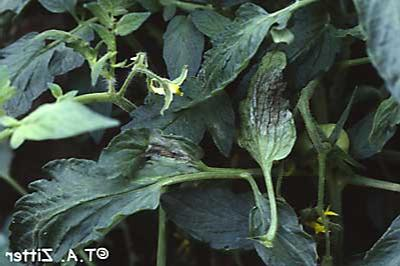Tomato leaf late blight: (10, 126, 211, 247), (233, 46, 296, 182), (195, 1, 278, 94)
